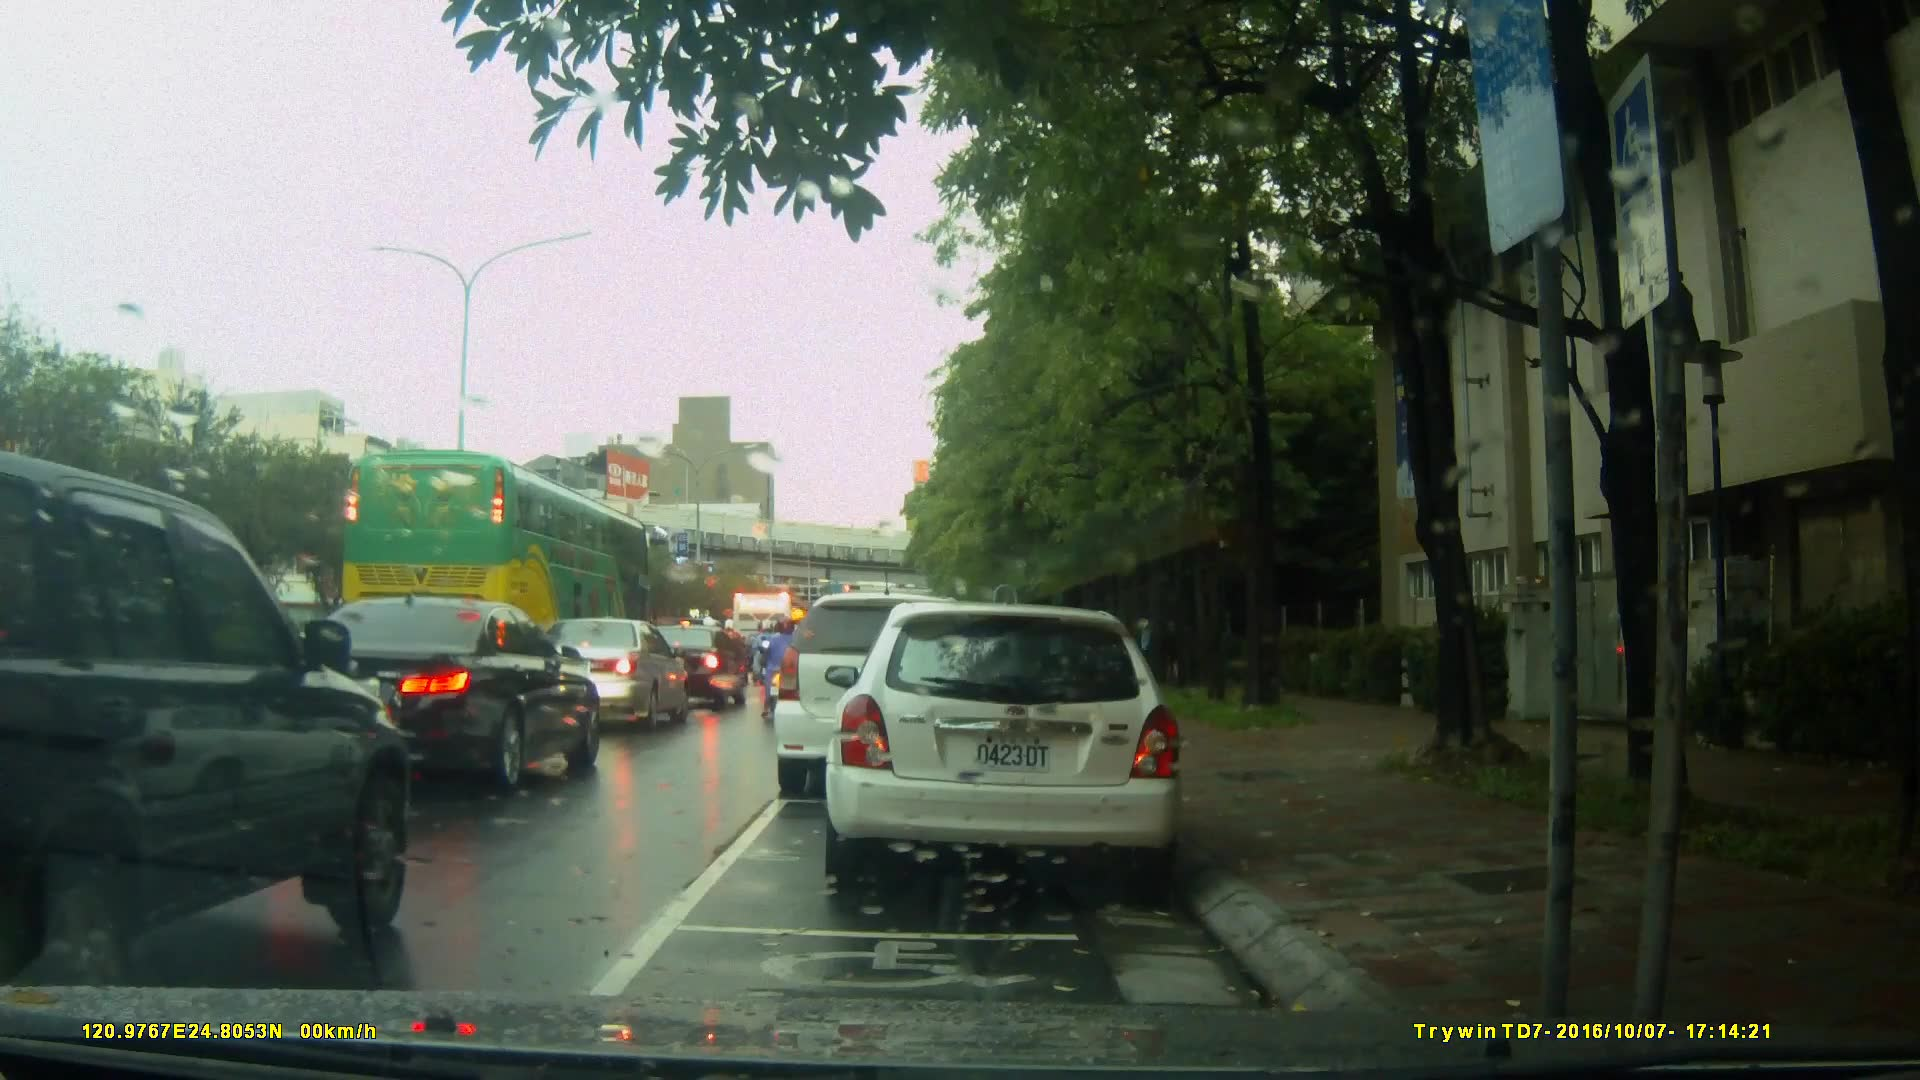rider: (755, 615, 798, 714)
vehicle: (1, 448, 415, 987), (831, 592, 1196, 897), (252, 594, 606, 803), (335, 446, 656, 659), (781, 601, 999, 802), (520, 615, 690, 732), (642, 625, 750, 714)
